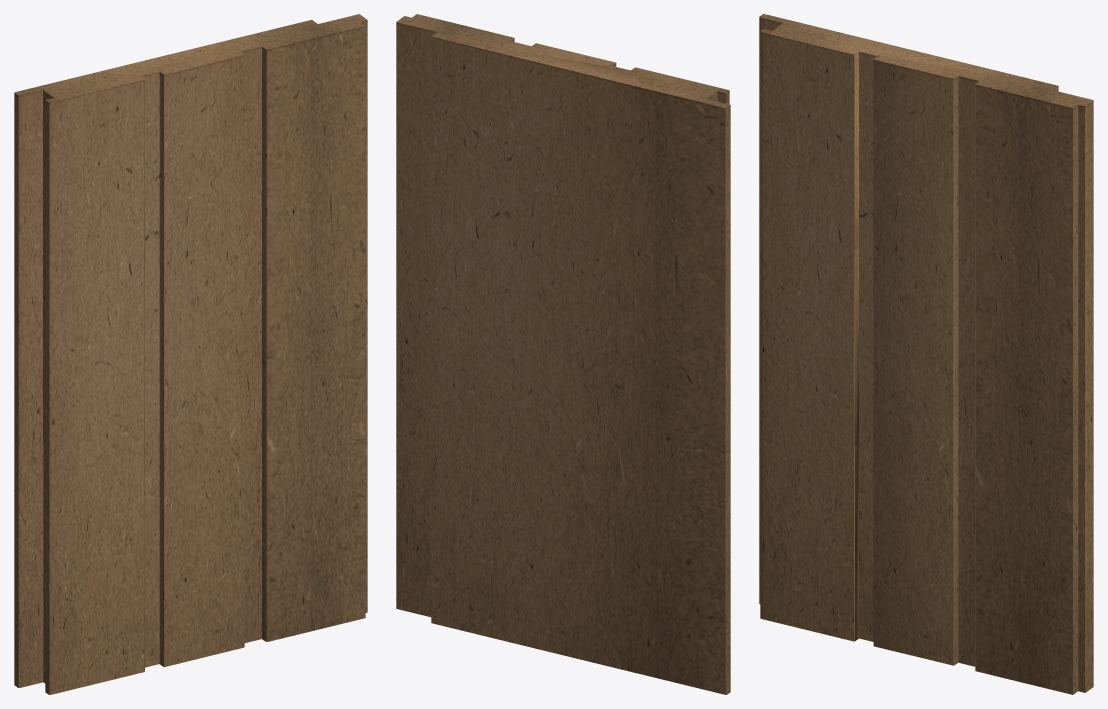
Rendered from antares.glb.
The picture shows the model from 3 angles, left to right: view 1: azimuth 30°, elevation 25°; view 2: azimuth 150°, elevation 25°; view 3: azimuth 330°, elevation 25°; orthographic projection.
Parts seen in each view (by area): view 1: root; view 2: root; view 3: root.
Boxes of the visible parts, bbox=[...] form: root: bbox=[14, 14, 367, 694]; root: bbox=[396, 14, 730, 694]; root: bbox=[759, 14, 1093, 694].
Size of the model in its own units: 0.12 by 0.2 by 0.012.
2 materials, 2 textured.
